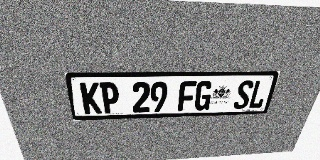2: (132, 82, 150, 113)
9: (150, 81, 168, 112)
F: (177, 81, 197, 111)
G: (193, 81, 214, 111)
K: (80, 82, 102, 114)
L: (247, 80, 270, 109)
P: (99, 82, 120, 114)
S: (233, 80, 255, 109)
